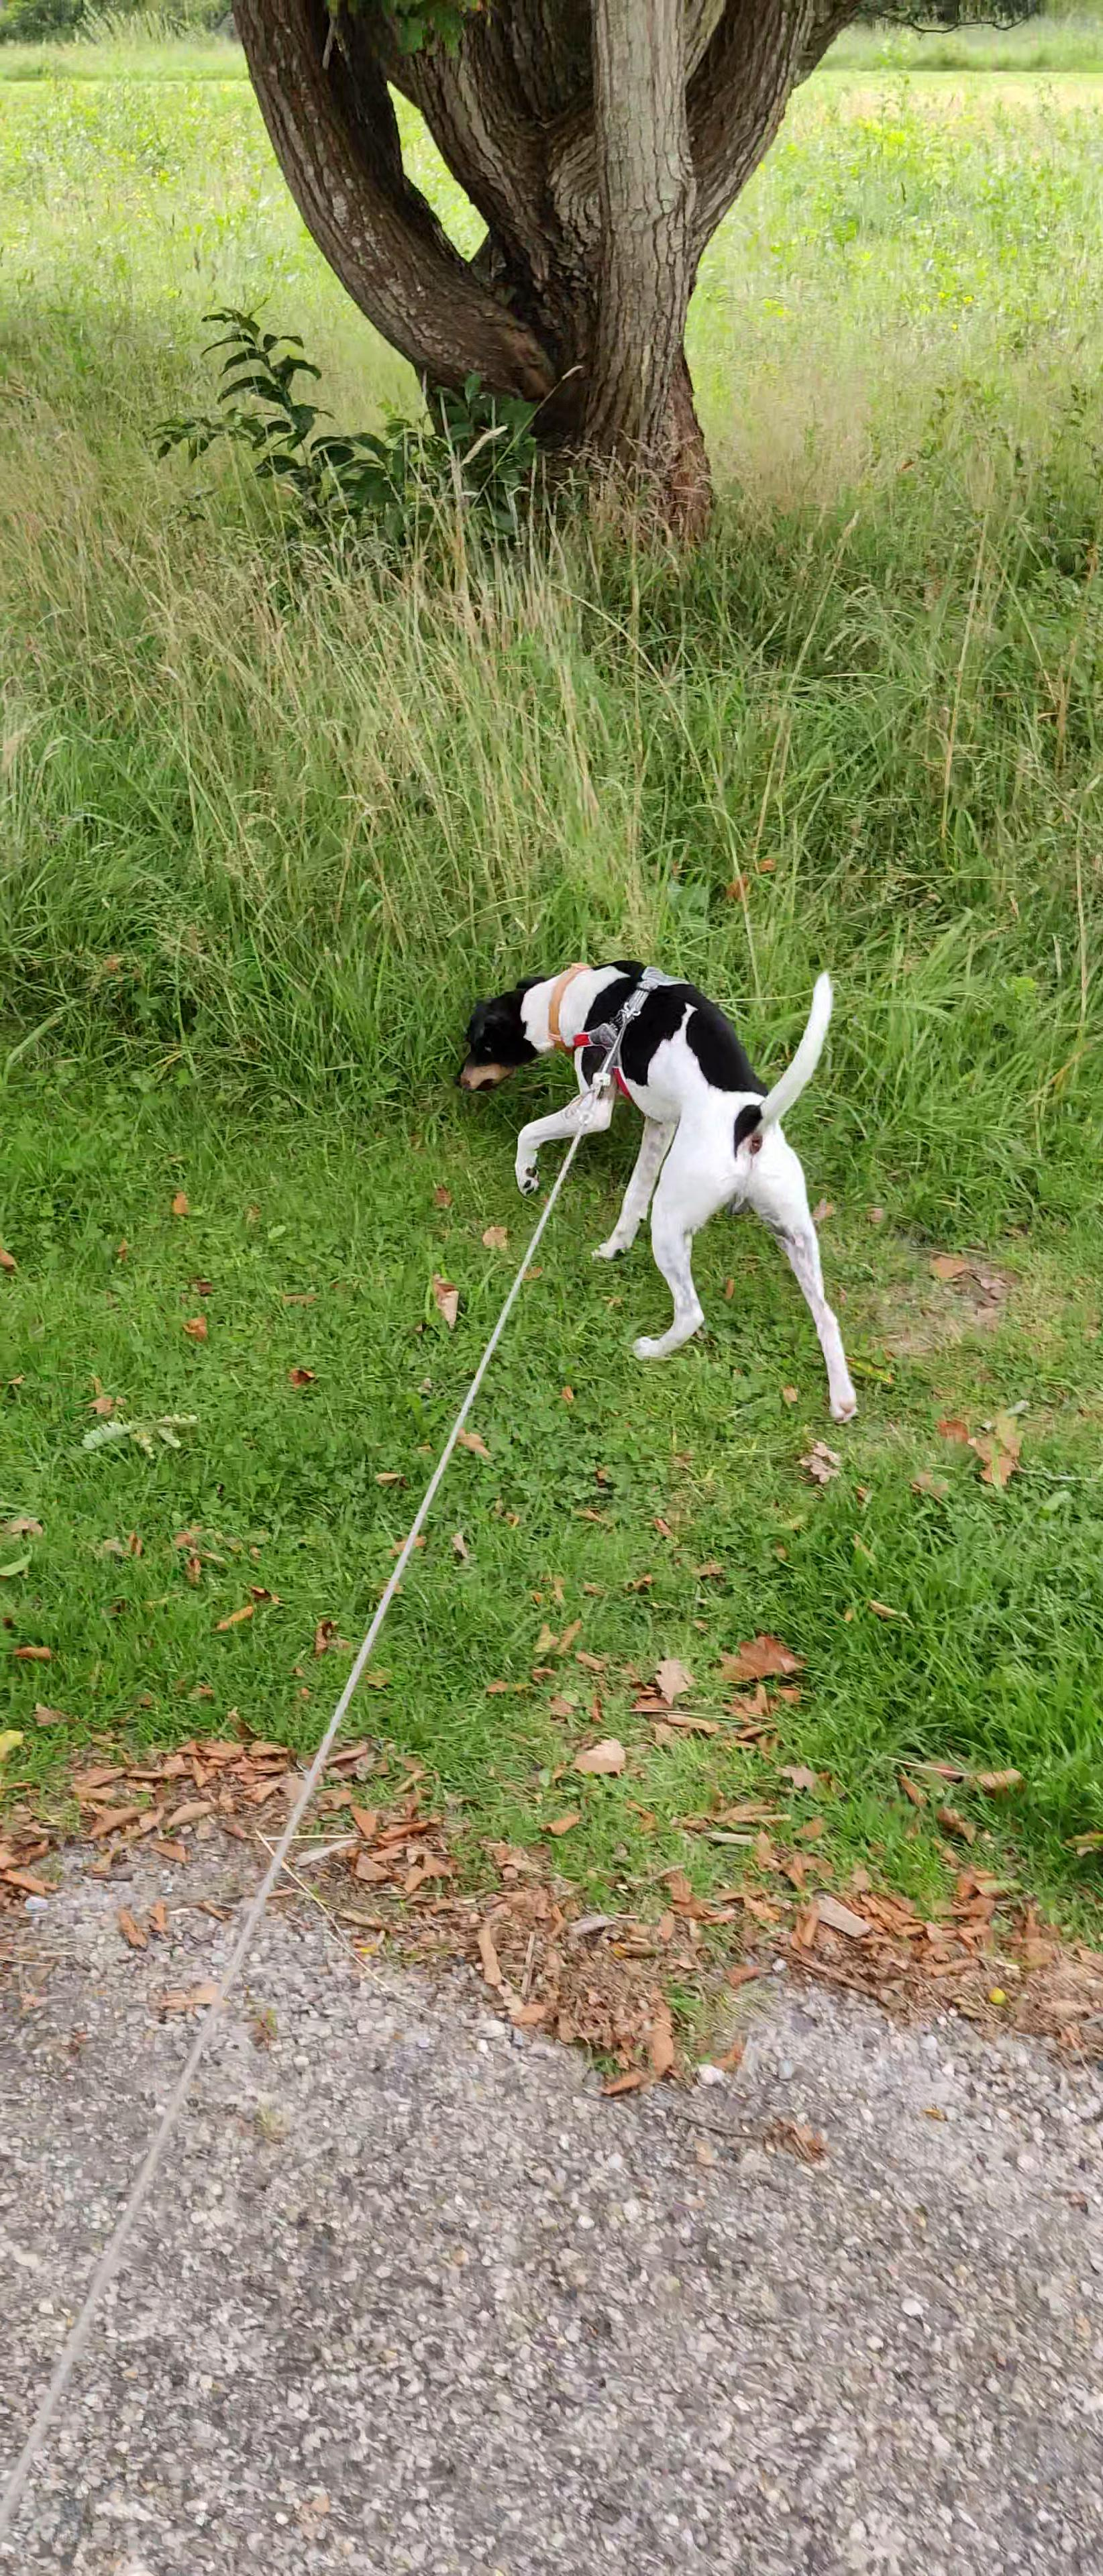Dog: (437, 897, 870, 1439)
